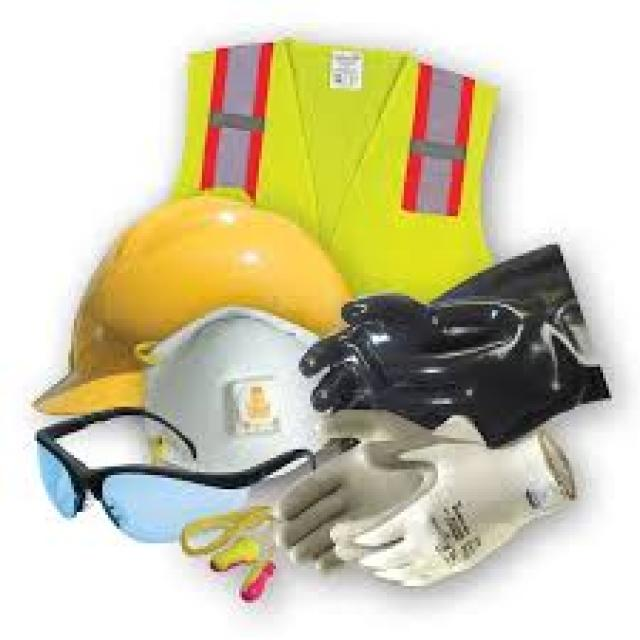glasses: (31, 417, 257, 549)
